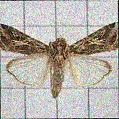Spodoptera litura: (1, 21, 119, 100)
